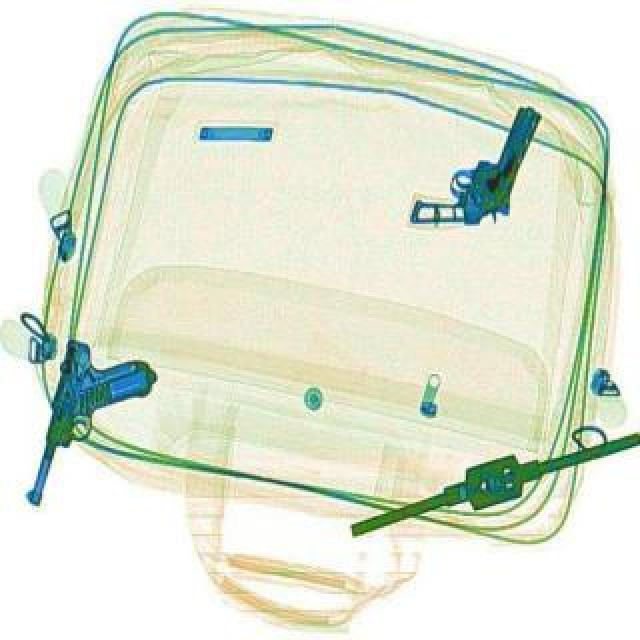gun: (22, 338, 158, 524), (406, 80, 548, 250)
